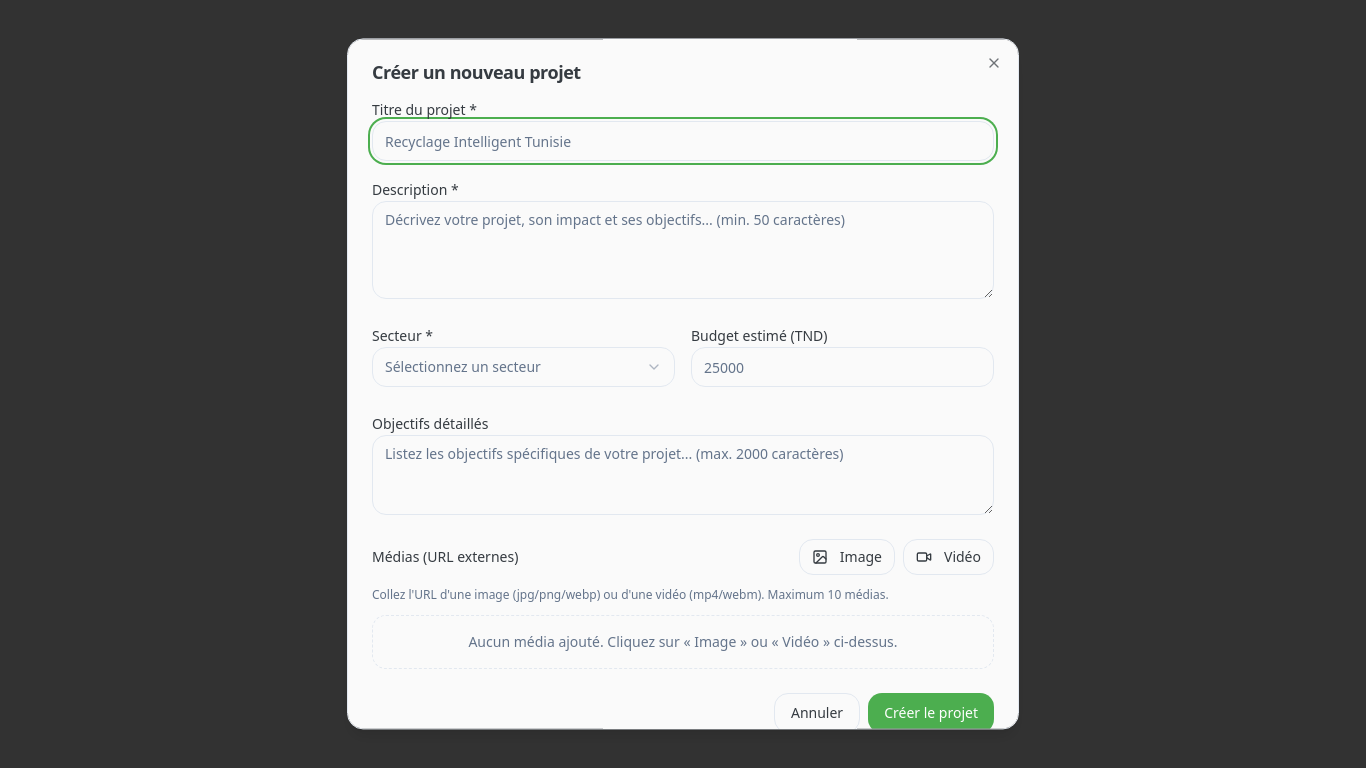
Scenario: CreateProjectModal — submit flow snapshot › adds a video media row with the video URL placeholder and preview icon
Click the button "Vidéo". click: click(948, 557)
box: [903,539,994,575]
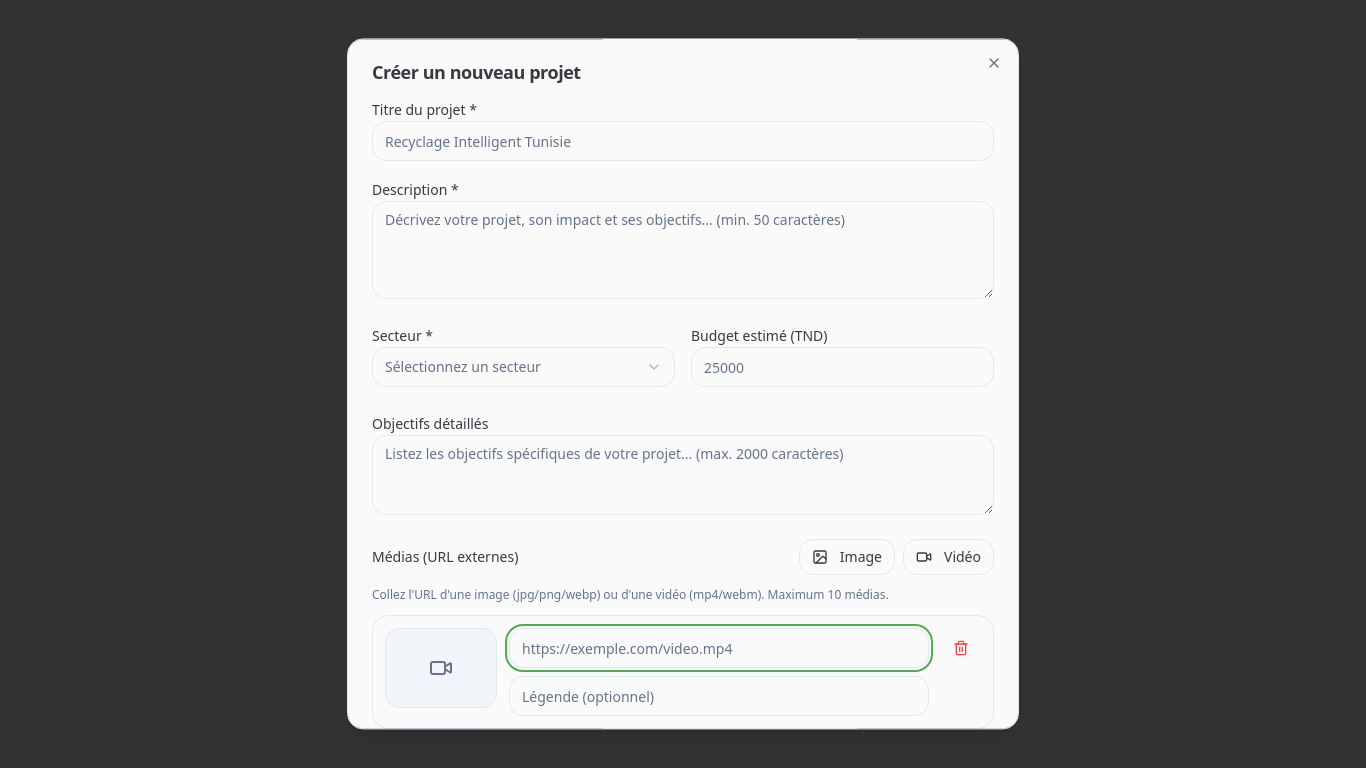
Check: the field with placeholder "https://exemple.com/video.mp4" is shown, box [509,628,929,668]
Check: the icon named "Aperçu vidéo" is shown, box [429,656,453,680]
